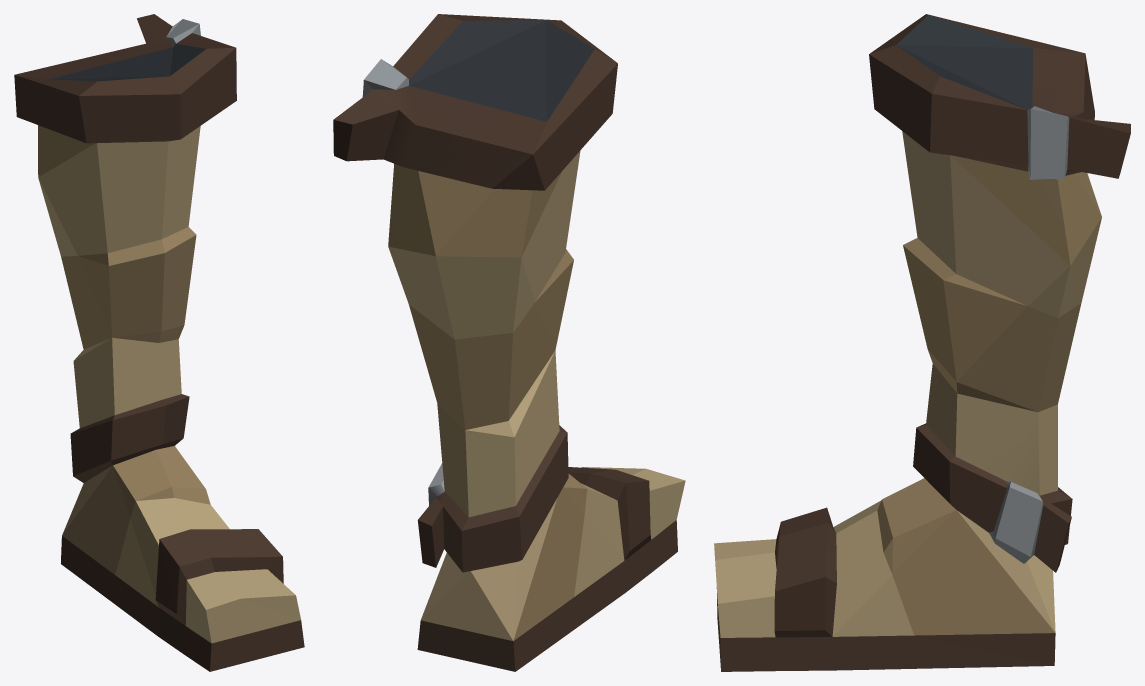
The model's file is Chr_LegLeft_Female_17_Static.fbx.
3 renders of one model, left to right at view 1: azimuth 30°, elevation 25°; view 2: azimuth 150°, elevation 25°; view 3: azimuth 270°, elevation 25°, orthographic. The views are drawn at different scales.
Visible parts, largest first — view 1: Chr_LegLeft_Female_17_Static; view 2: Chr_LegLeft_Female_17_Static; view 3: Chr_LegLeft_Female_17_Static.
Boxes of the visible parts, x1,y1,x2,y2 form: Chr_LegLeft_Female_17_Static: (14,14,304,671); Chr_LegLeft_Female_17_Static: (333,14,685,671); Chr_LegLeft_Female_17_Static: (714,14,1130,671).
Size of the model in its own units: 0.1377 by 0.402 by 0.255.
